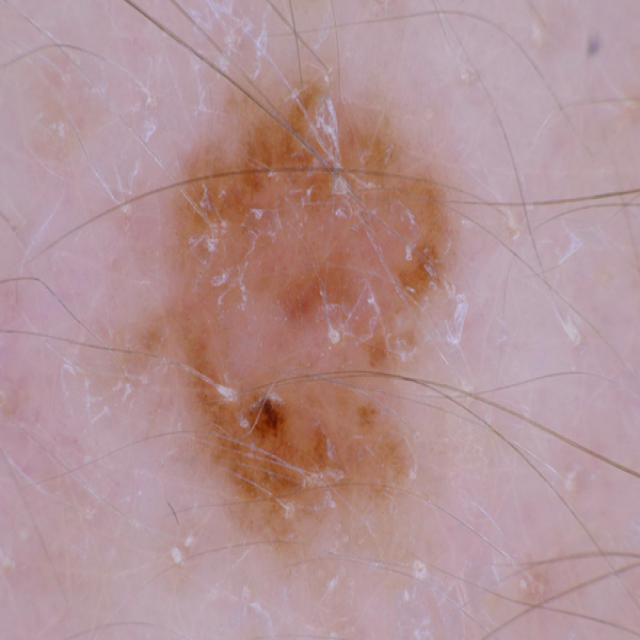NV: (108, 63, 463, 563)
